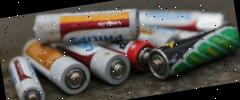electronic: (28, 0, 143, 57), (141, 26, 240, 88), (50, 29, 138, 98), (17, 30, 94, 100), (102, 28, 154, 84), (3, 51, 51, 100)
